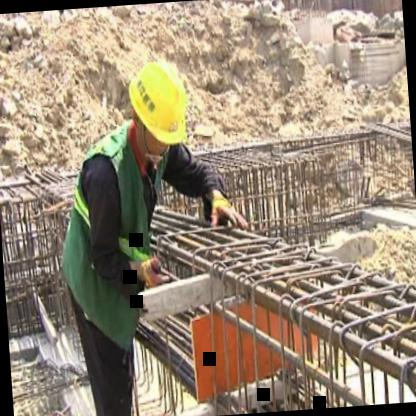helmet: (120, 56, 196, 164)
